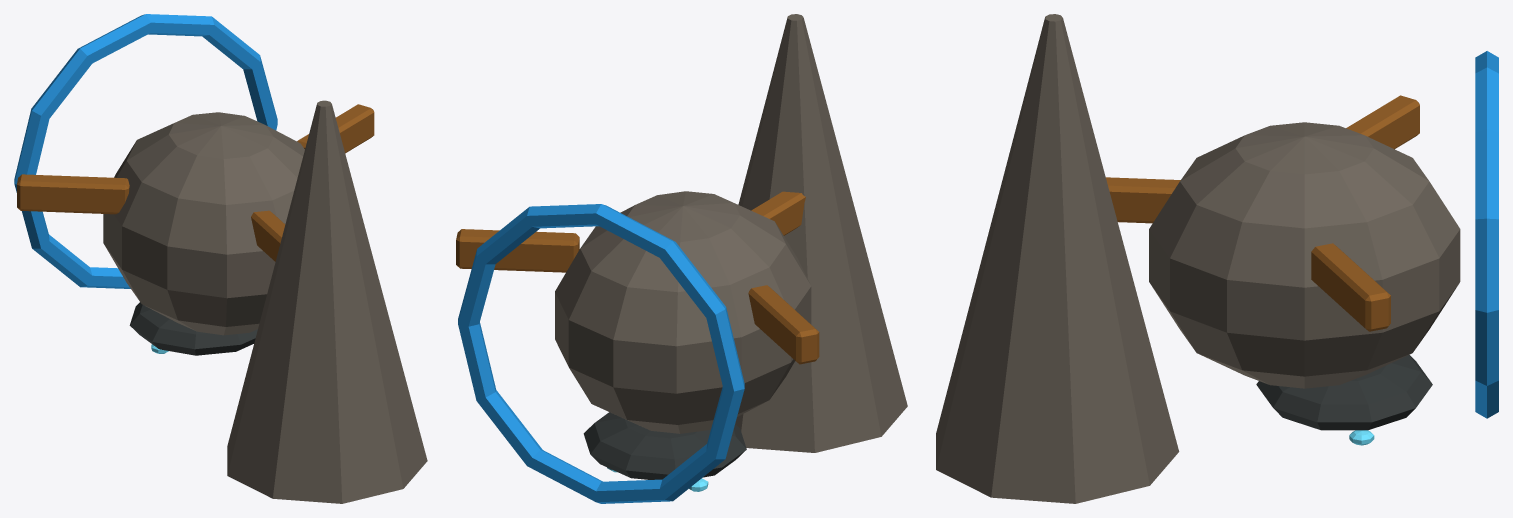
The model's file is ForgeSpecter.glb.
3 views of the same model, side by side, from view 1: azimuth 30°, elevation 25°; view 2: azimuth 150°, elevation 25°; view 3: azimuth 270°, elevation 25° (orthographic). The views are drawn at different scales.
Visible parts, largest first — view 1: GhostTail, Body, Halo, ChainShard2, Mask, ChainShard1, ChainShard3; view 2: Body, GhostTail, Halo, Mask, ChainShard1, ChainShard2, ChainShard3; view 3: GhostTail, Body, Halo, Mask, ChainShard1, ChainShard3, ChainShard2.
Part boxes in pixels (bbox=[...]): GhostTail: bbox=[227, 100, 427, 503]; Body: bbox=[103, 112, 304, 335]; Halo: bbox=[14, 14, 277, 288]; ChainShard2: bbox=[17, 174, 129, 214]; Mask: bbox=[129, 302, 257, 355]; ChainShard1: bbox=[297, 104, 374, 153]; ChainShard3: bbox=[251, 210, 285, 261]; Body: bbox=[555, 191, 811, 433]; GhostTail: bbox=[735, 14, 907, 452]; Halo: bbox=[458, 204, 744, 503]; Mask: bbox=[583, 412, 746, 479]; ChainShard1: bbox=[456, 229, 579, 272]; ChainShard2: bbox=[748, 285, 819, 364]; ChainShard3: bbox=[751, 191, 805, 235]; GhostTail: bbox=[936, 14, 1179, 503]; Body: bbox=[1149, 122, 1460, 388]; Halo: bbox=[1475, 51, 1498, 418]; Mask: bbox=[1256, 354, 1432, 430]; ChainShard1: bbox=[1311, 243, 1390, 331]; ChainShard3: bbox=[1106, 177, 1180, 223]; ChainShard2: bbox=[1346, 95, 1419, 149].
Bounding box in the file's own units: 4.23 × 4.2 × 4.94.
1 material, 1 textured.
